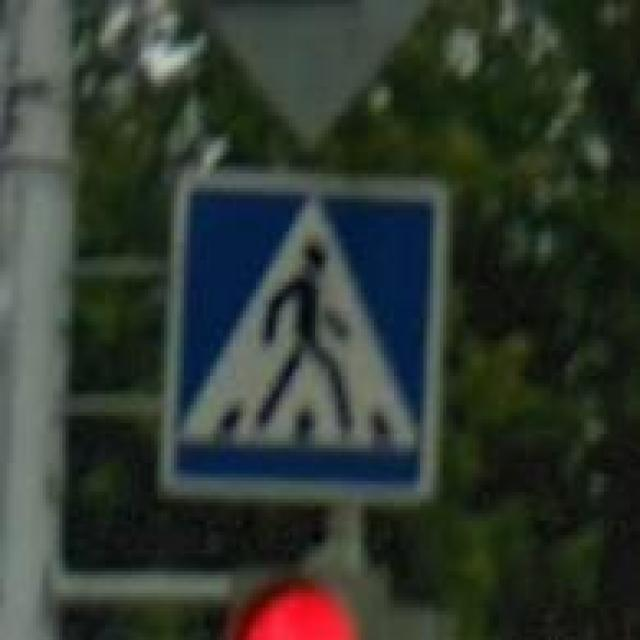traffic_sign: (158, 166, 450, 506)
